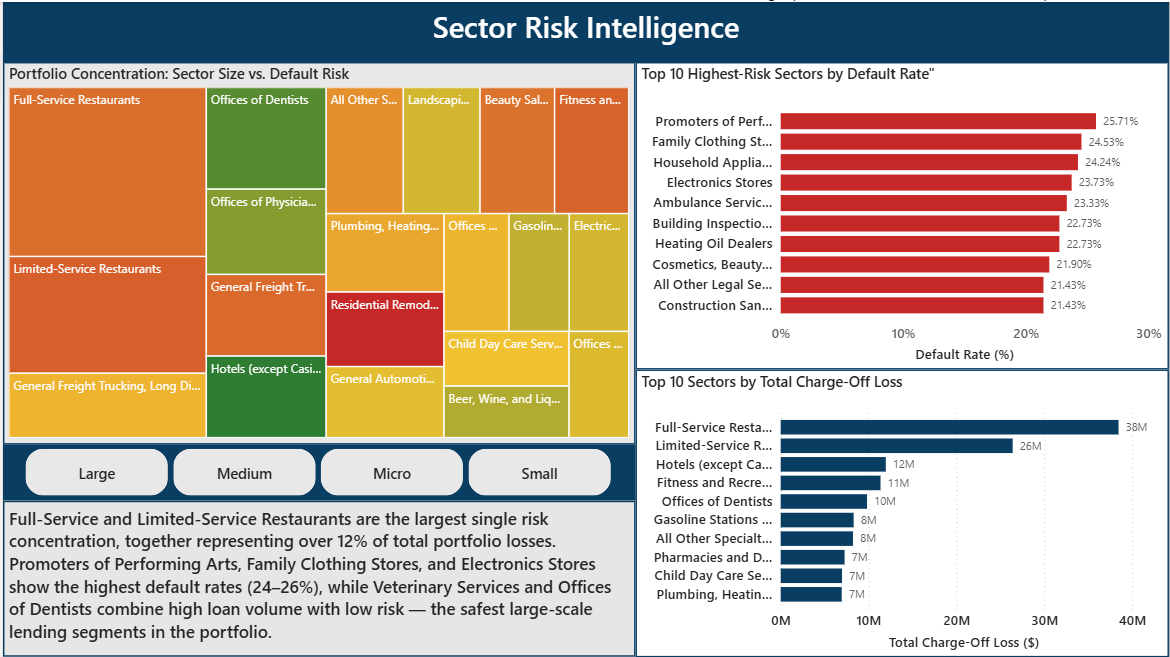

This screenshot's page, from the dashboard's own definition file:
{"tool":"powerbi","page":{"name":"Sector Risk Intelligence","canvas":[1280,720],"ordinal":1},"visuals":[{"type":"clusteredBarChart","title":"Top 10 Highest-Risk Sectors by Default Rate\"","fields":{"Category":["sba_loans.NaicsDescription_Fixed"],"Y":["sba_loans.Reliable Default Rate"]},"box":[694.5,66.1,585.8,337.7],"z":0},{"type":"textbox","box":[0,0,1280.3,66.1],"z":1000},{"type":"clusteredBarChart","title":"Top 10 Sectors by Total Charge-Off Loss","fields":{"Category":["sba_loans.NaicsDescription_Fixed"],"Y":["sba_loans.Total Charge-Off Loss"]},"box":[694.5,403.8,585.8,315.7],"z":2000},{"type":"treemap","title":"Portfolio Concentration: Sector Size vs. Default Risk","fields":{"Group":["sba_loans.NaicsDescription_Fixed"],"Values":["sba_loans.Total Loans"]},"box":[0,66.1,694.5,419.9],"z":3000},{"type":"advancedSlicerVisual","fields":{"Values":["sba_loans.Loan_Size_Tier"]},"box":[0,486,694.5,61.7],"z":4000},{"type":"textbox","box":[0,547.5,694.3,171.5],"z":5000}]}

Visuals, with their boxes in screenshot pixels (x1, y1, x2, y2), scaled from the page's 1280x720 canvas onto the 1170x657 screenshot:
"Top 10 Highest-Risk Sectors by Default Rate"" clusteredBarChart: bbox=[635, 60, 1169, 368]
textbox: bbox=[0, 0, 1169, 60]
"Top 10 Sectors by Total Charge-Off Loss" clusteredBarChart: bbox=[635, 368, 1169, 656]
"Portfolio Concentration: Sector Size vs. Default Risk" treemap: bbox=[0, 60, 635, 443]
advancedSlicerVisual - sba_loans.Loan_Size_Tier: bbox=[0, 443, 635, 500]
textbox: bbox=[0, 500, 635, 656]
